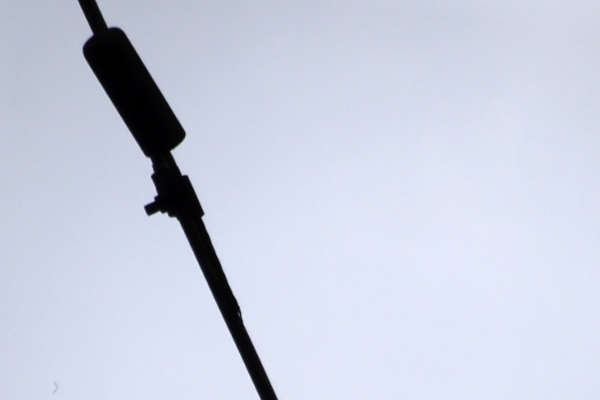damper_defect: (79, 22, 247, 324)
